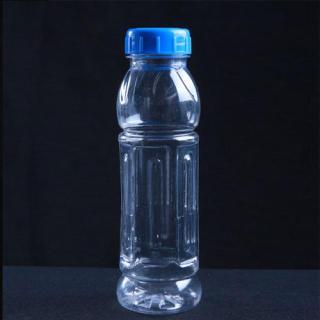Anorganik: (114, 21, 217, 314)
